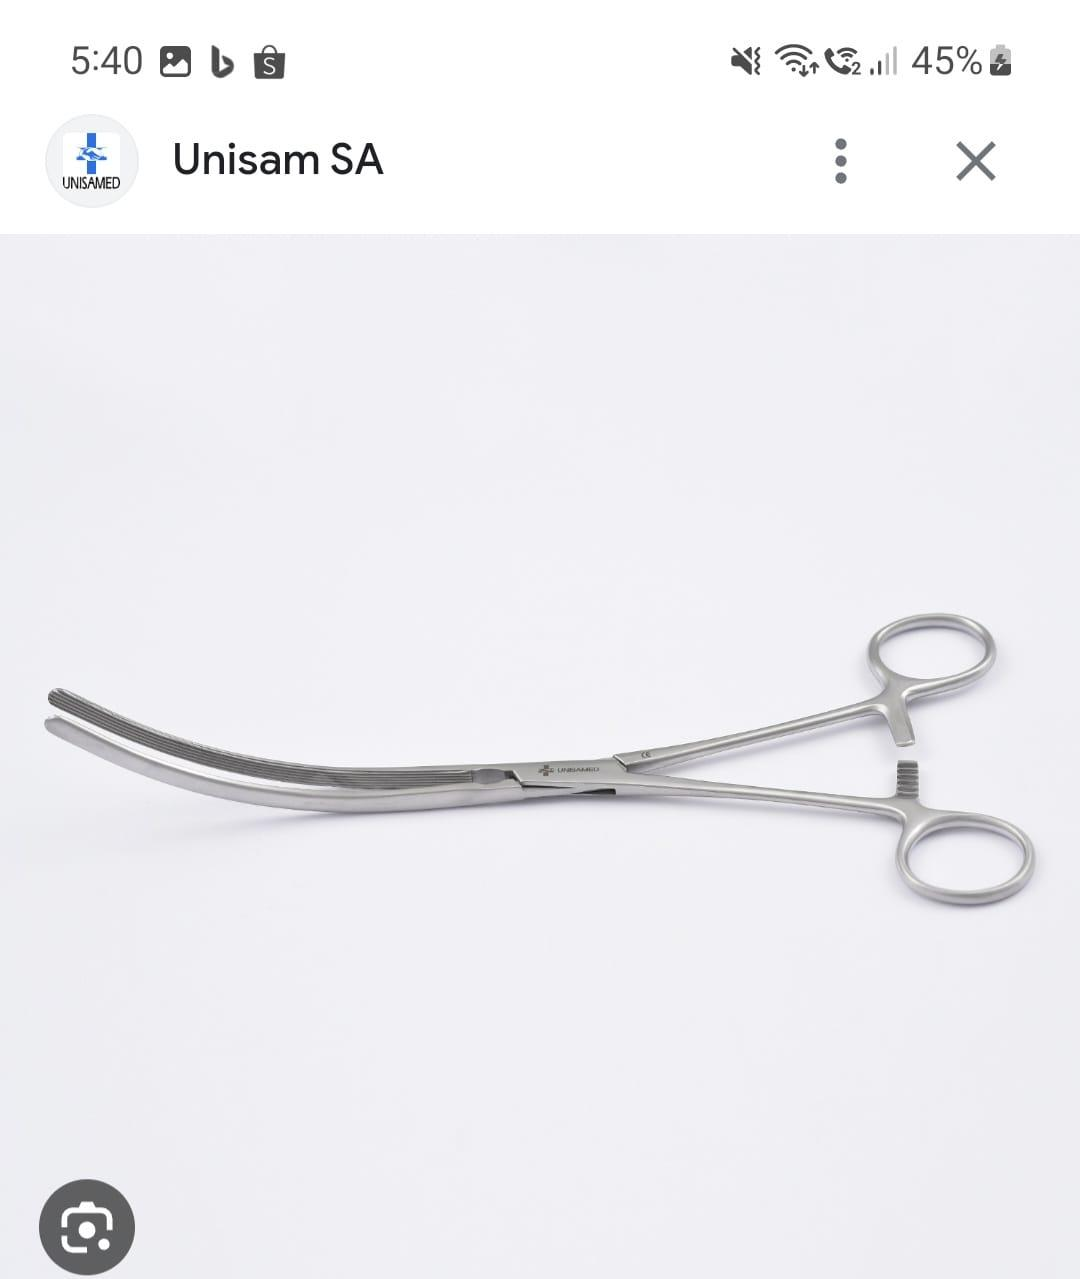Doyel Instestinal Forceps: (42, 600, 1048, 934)
